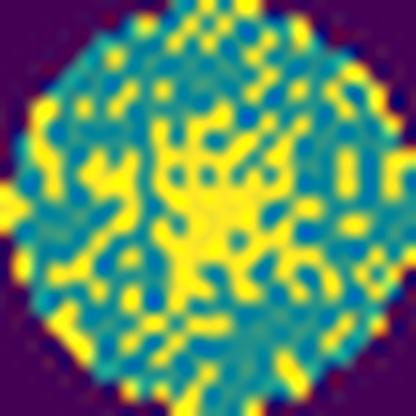Center: (149, 98, 345, 324)
